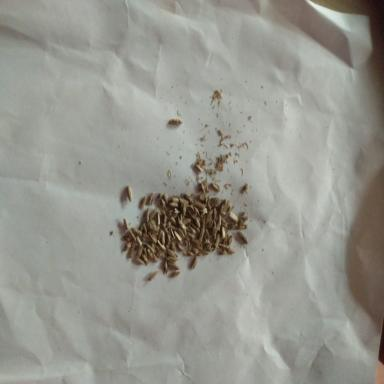pbw: (149, 206, 159, 219), (239, 231, 248, 244), (198, 226, 205, 242), (136, 244, 144, 258), (148, 231, 157, 243), (149, 270, 158, 282), (168, 261, 180, 270), (168, 118, 183, 125), (177, 227, 185, 240), (128, 229, 136, 242), (184, 193, 194, 203), (147, 192, 154, 206), (126, 186, 132, 202), (154, 212, 161, 225), (214, 233, 220, 248), (229, 212, 238, 222), (160, 198, 166, 213), (134, 256, 144, 265), (129, 243, 135, 258), (168, 249, 178, 258), (158, 240, 166, 251), (221, 198, 227, 212), (191, 257, 198, 269), (140, 196, 146, 210), (211, 182, 220, 191), (174, 231, 182, 241), (132, 228, 142, 236), (123, 242, 131, 252), (122, 218, 128, 231), (225, 205, 232, 216), (193, 201, 204, 208), (170, 240, 176, 252), (155, 245, 163, 254), (199, 183, 205, 195), (146, 243, 154, 252), (192, 224, 200, 233), (204, 228, 209, 242), (221, 218, 228, 228), (191, 239, 201, 246), (241, 184, 248, 194), (189, 226, 197, 234), (195, 164, 203, 172), (193, 207, 200, 216), (168, 213, 177, 220), (182, 218, 191, 225), (163, 194, 169, 204), (142, 223, 148, 233), (147, 249, 153, 259), (226, 235, 232, 245), (163, 262, 168, 274), (194, 218, 200, 228), (157, 228, 162, 240), (213, 208, 218, 220), (162, 230, 166, 244), (222, 225, 226, 239), (172, 271, 180, 278), (187, 231, 195, 238), (207, 196, 211, 210), (166, 233, 171, 244), (237, 224, 248, 229), (179, 198, 188, 204), (136, 236, 142, 245), (169, 224, 178, 230), (164, 256, 173, 262), (121, 236, 130, 242), (182, 203, 186, 216), (153, 252, 158, 262), (225, 200, 230, 210), (184, 251, 194, 256), (169, 202, 179, 207), (198, 208, 208, 213), (214, 200, 221, 207), (226, 248, 234, 254), (200, 250, 208, 256), (177, 243, 183, 251), (146, 208, 149, 222), (170, 218, 176, 225), (219, 242, 226, 248), (218, 213, 221, 225), (164, 213, 167, 224), (170, 257, 178, 261)
